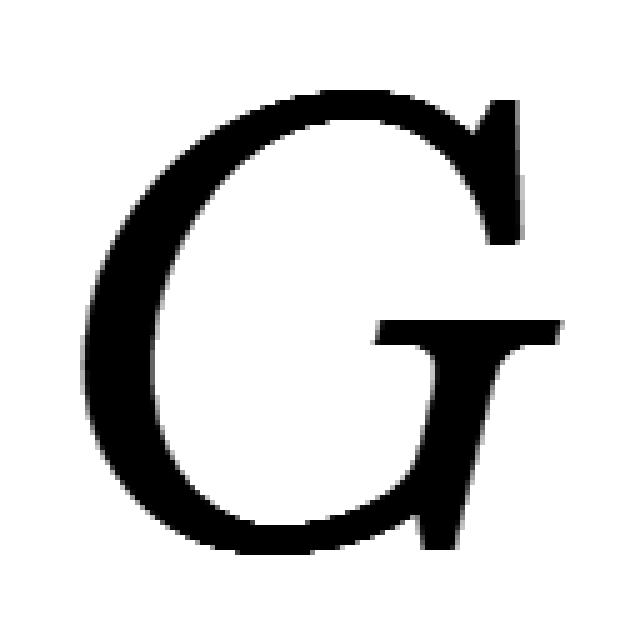G: (75, 80, 570, 560)
